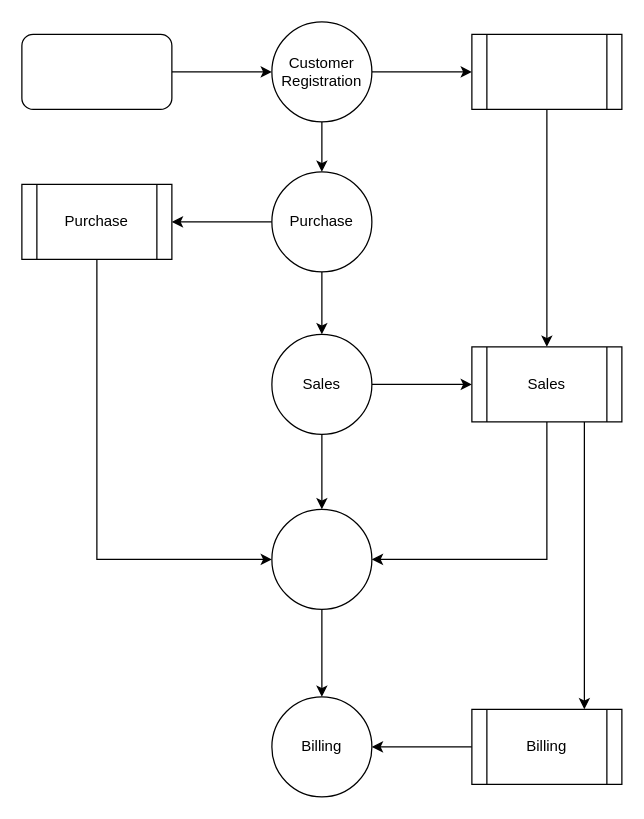
Image size: 644x819. Some labels were removed from this diagram. The box of each missing label's shape, as (x1, y1, x2, y2) in pixels:
Admin: (21, 33, 172, 109)
Customer: (471, 33, 622, 109)
Stock: (271, 508, 372, 609)
